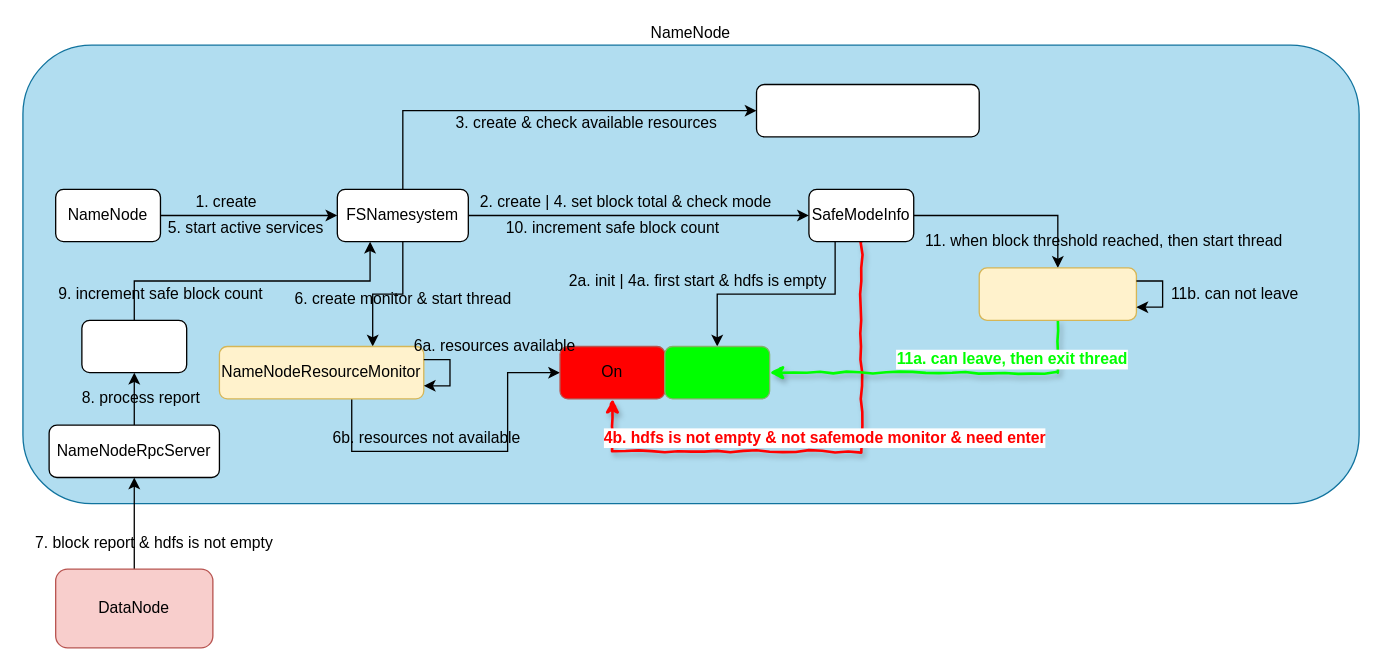
Image size: 1382x671. Some labels were removed from this diagram. The centre of each missing label's shape, as x and y in pixels:
BlockManager: the point at 134,346
NameNodeResourceChecker: the point at 867,110
Off: the point at 717,372
SafeModeMonitor: the point at 1057,293
